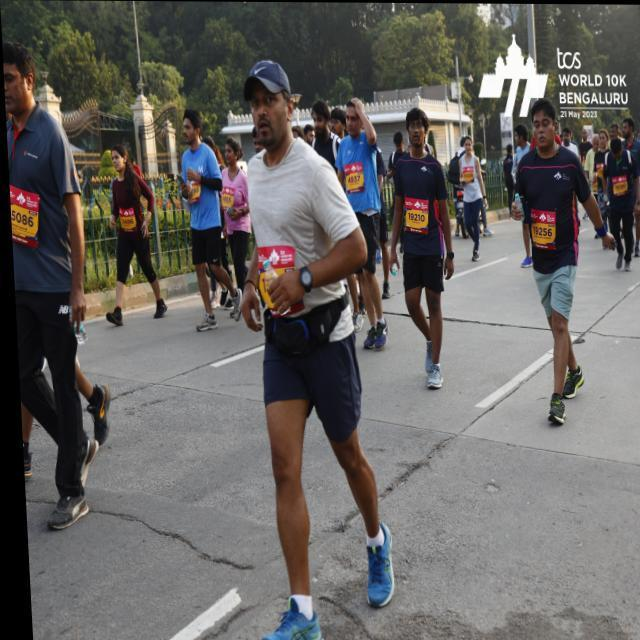dorsal: (8, 184, 38, 249), (527, 207, 554, 249), (402, 196, 428, 234), (342, 163, 364, 191)
